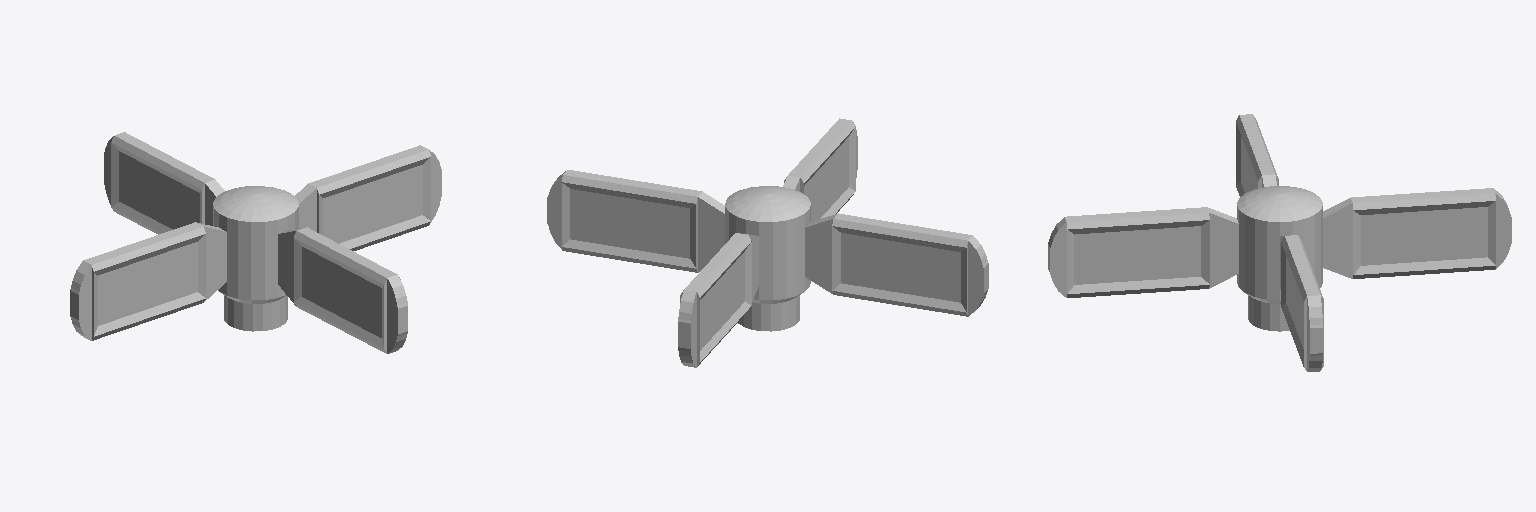
Rendered from Fans.obj.
3 views of the same model, side by side, from view 1: azimuth 30°, elevation 25°; view 2: azimuth 150°, elevation 25°; view 3: azimuth 270°, elevation 25° (orthographic).
Visible parts, largest first — view 1: pCylinder1; view 2: pCylinder1; view 3: pCylinder1.
Part boxes in pixels (left/top/right/bottom): pCylinder1: left=70, top=132, right=441, bottom=353; pCylinder1: left=547, top=118, right=988, bottom=367; pCylinder1: left=1048, top=114, right=1511, bottom=371.
Size of the model in its own units: 6.26 by 1.85 by 6.26.